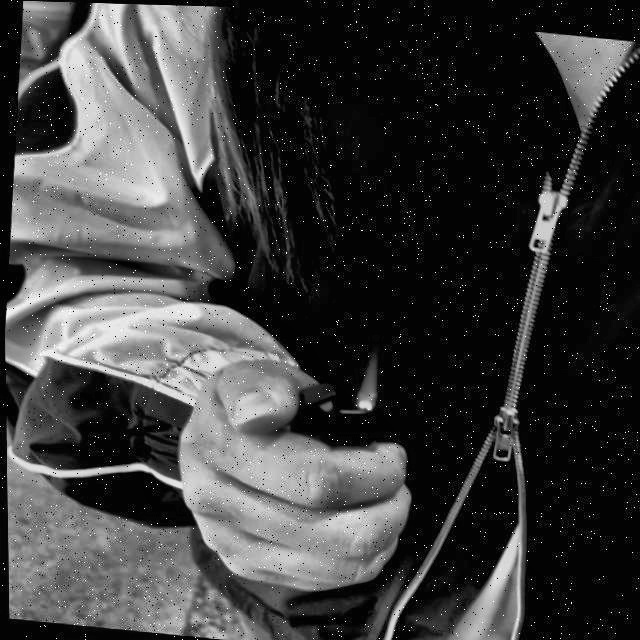Fire: (351, 327, 383, 407)
